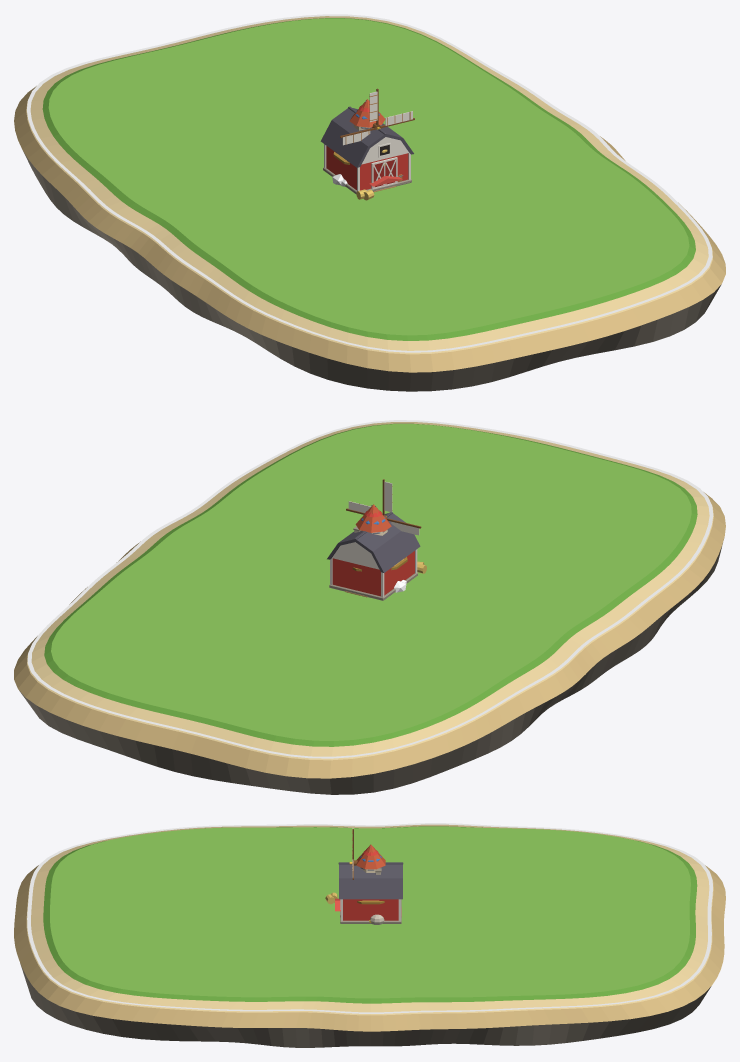
The model's file is fermidor.glb.
The picture shows the model from 3 angles, top to bottom: view 1: azimuth 30°, elevation 25°; view 2: azimuth 150°, elevation 25°; view 3: azimuth 270°, elevation 25°; orthographic projection. The views are drawn at different scales.
Parts seen in each view (by area): view 1: island, barn, foam, windmill_blades; view 2: island, barn, foam, windmill_blades; view 3: island, foam, barn, windmill.
Part boxes in pixels (left/top/right/bottom): island: left=14, top=16, right=725, bottom=391; barn: left=320, top=100, right=413, bottom=200; foam: left=27, top=14, right=712, bottom=352; windmill_blades: left=340, top=88, right=414, bottom=145; island: left=14, top=422, right=725, bottom=794; barn: left=327, top=505, right=426, bottom=600; foam: left=27, top=420, right=713, bottom=758; windmill_blades: left=346, top=479, right=421, bottom=535; island: left=14, top=824, right=725, bottom=1047; foam: left=27, top=823, right=712, bottom=1013; barn: left=325, top=846, right=403, bottom=923; windmill: left=356, top=844, right=385, bottom=872.
Size of the model in its own units: 46.35 by 13.1 by 69.01.
